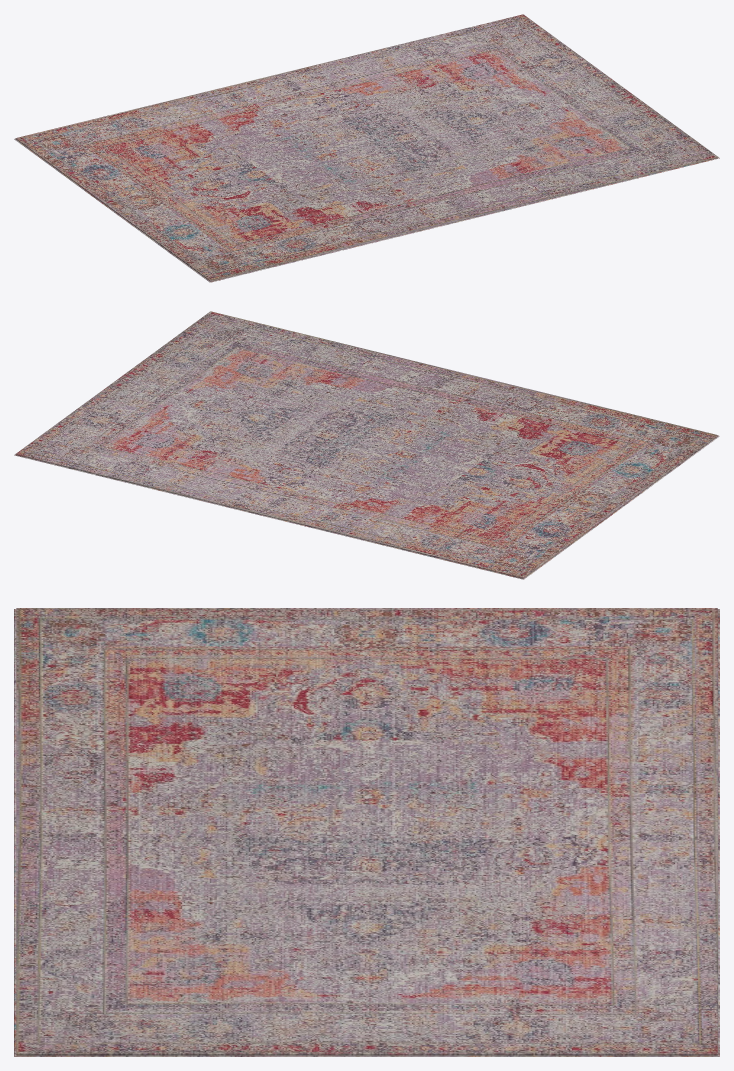
File: B06XDD4YTD.glb
The picture shows the model from 3 angles, top to bottom: view 1: azimuth 30°, elevation 25°; view 2: azimuth 150°, elevation 25°; view 3: azimuth 270°, elevation 25°; orthographic projection. The views are drawn at different scales.
Parts seen in each view (by area): view 1: RootNode; view 2: RootNode; view 3: RootNode.
Boxes of the visible parts, x1=… form: RootNode: x1=14, y1=14, x2=719, y2=282; RootNode: x1=14, y1=311, x2=719, y2=579; RootNode: x1=14, y1=608, x2=719, y2=1056.
Size of the model in its own units: 1.83 by 0.00502 by 1.22.
1 material, 1 textured.
